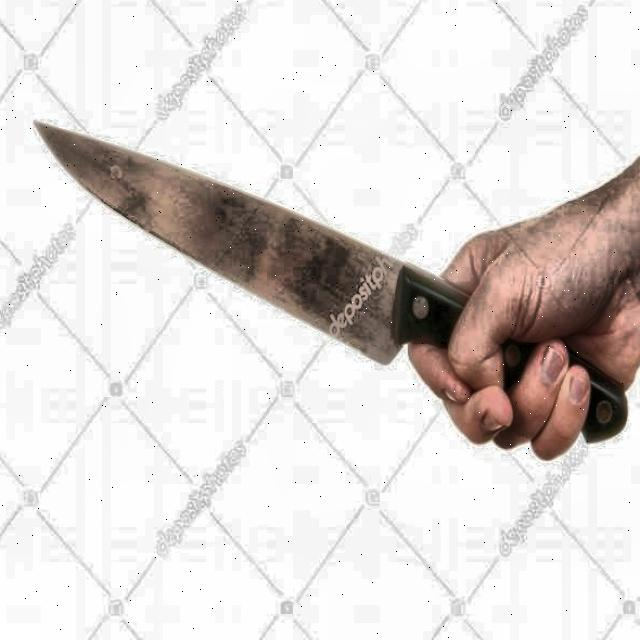knife: (33, 122, 625, 445)
